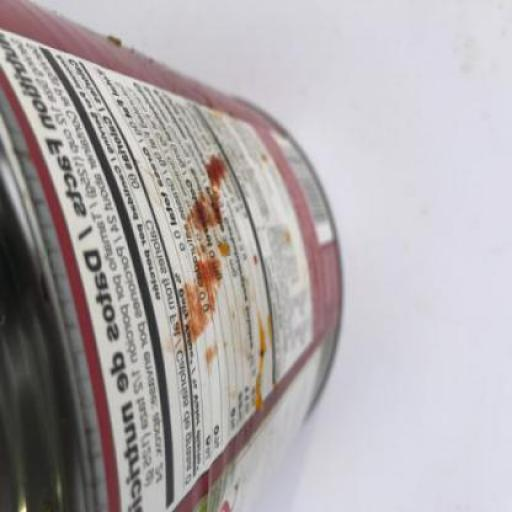metal: (2, 0, 344, 511)
